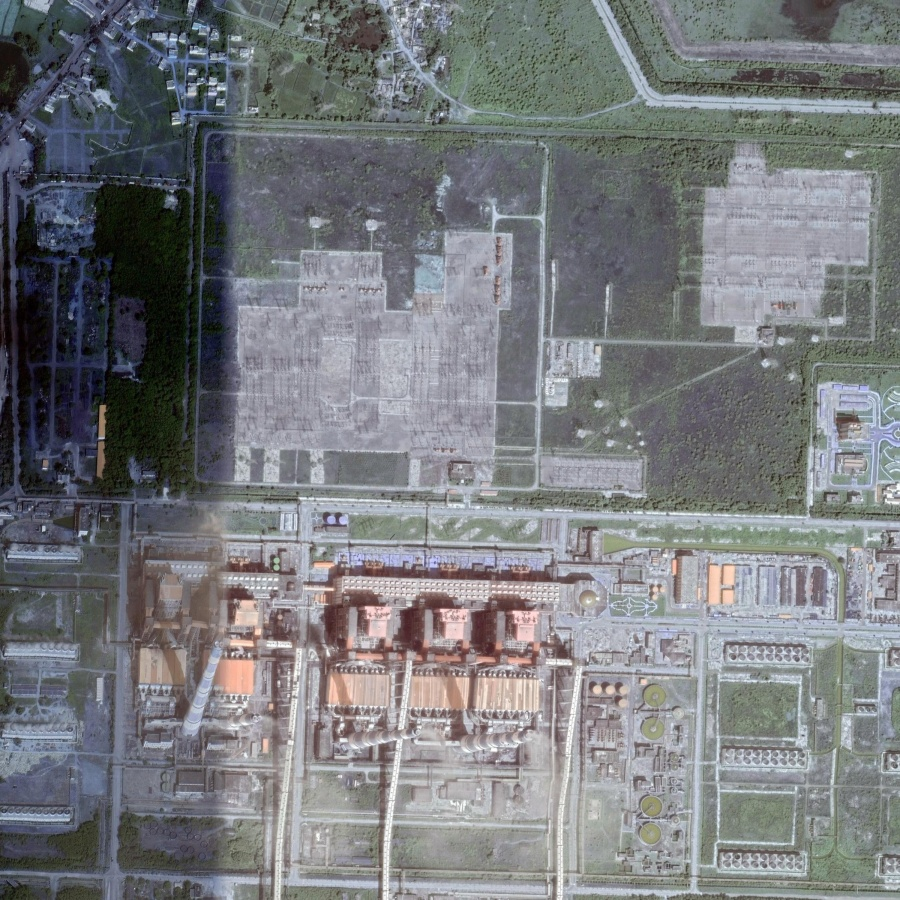PowerPlant: (113, 494, 575, 836)
